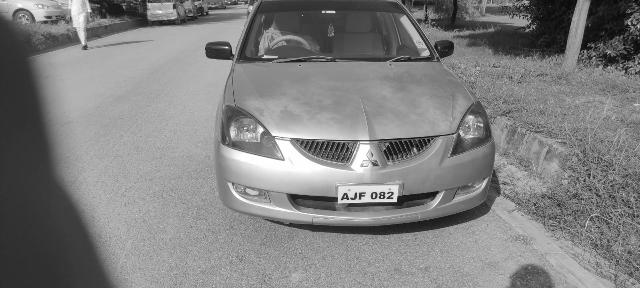Number: (340, 190, 395, 202)
